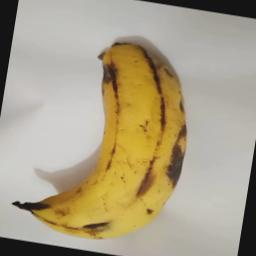Banana Unripe: (6, 26, 204, 252)
